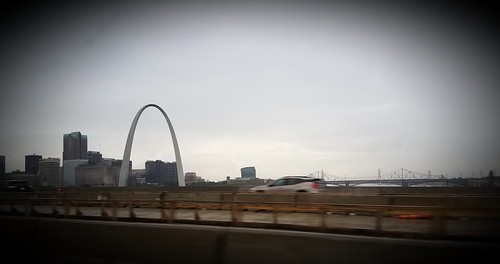building: (78, 158, 130, 185), (66, 130, 89, 188), (142, 159, 185, 186), (37, 152, 63, 188)
car: (248, 171, 329, 195)
sky: (13, 1, 500, 158)
